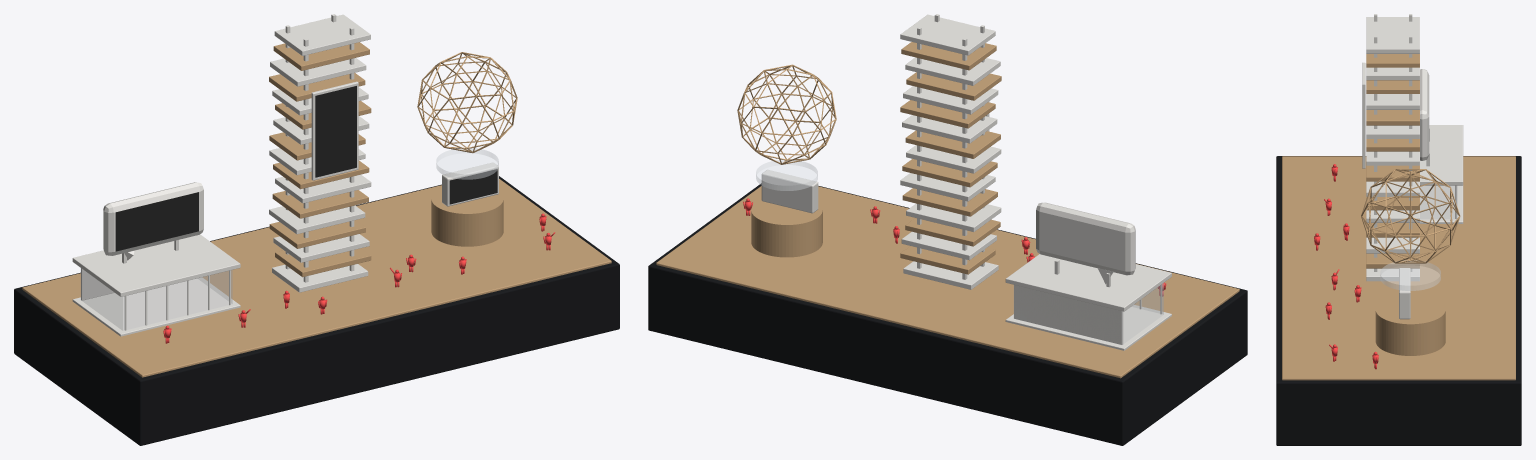
Rendered from maquette.glb.
3 views of the same model, side by side, from view 1: azimuth 30°, elevation 25°; view 2: azimuth 150°, elevation 25°; view 3: azimuth 270°, elevation 25° (orthographic). The views are drawn at different scales.
Visible parts, largest first — view 1: Plinth, Plinth_Top, Store_Roof, Store_Base, Store_Glass, Laser_Sphere, Screen_Bridj, Screen_MojKolega, Laser_Base, Tower_Slab_16, Canopy_Bubble, Laser_Lens (+20 smaller); view 2: Plinth, Plinth_Top, Canopy_Bubble, Store_Roof, Laser_Sphere, Store_Back, Laser_Base, Tower_Slab_16, Store_Base, Laser_ScreenBox, Laser_Lens, Store_Glass (+17 smaller); view 3: Plinth_Top, Plinth, Laser_Sphere, Laser_Base, Store_Roof, Tower_Slab_16, Laser_Lens, Store_Base, Canopy_Bubble, Tower_Slab_11, Tower_Slab_12, Store_Glass (+18 smaller).
Part boxes in pixels (x1,y1,x2,y2): Plinth: (14, 176, 619, 445); Plinth_Top: (22, 179, 611, 377); Store_Roof: (72, 234, 240, 296); Store_Base: (72, 277, 240, 336); Store_Glass: (81, 269, 232, 330); Laser_Sphere: (417, 52, 517, 153); Screen_Bridj: (315, 86, 356, 177); Screen_MojKolega: (115, 192, 198, 251); Laser_Base: (431, 188, 503, 246); Tower_Slab_16: (274, 14, 370, 55); Canopy_Bubble: (103, 182, 203, 255); Laser_Lens: (436, 148, 498, 179); Plinth: (648, 183, 1247, 445); Plinth_Top: (656, 186, 1239, 378); Canopy_Bubble: (1036, 202, 1135, 275); Store_Roof: (1005, 254, 1171, 311); Laser_Sphere: (737, 64, 836, 164); Store_Back: (1014, 285, 1123, 344); Laser_Base: (751, 199, 822, 257); Tower_Slab_16: (900, 14, 995, 55); Store_Base: (1005, 305, 1171, 350); Laser_ScreenBox: (761, 169, 818, 213); Laser_Lens: (756, 160, 817, 190); Store_Glass: (1014, 283, 1163, 344); Plinth_Top: (1282, 156, 1515, 380); Plinth: (1276, 156, 1521, 445); Laser_Sphere: (1361, 169, 1460, 263); Laser_Base: (1375, 294, 1445, 355); Store_Roof: (1420, 125, 1463, 185); Tower_Slab_16: (1366, 17, 1419, 53); Laser_Lens: (1380, 260, 1440, 290); Store_Base: (1420, 185, 1463, 223); Canopy_Bubble: (1420, 69, 1429, 160); Tower_Slab_11: (1366, 110, 1419, 125); Tower_Slab_12: (1366, 94, 1419, 109); Store_Glass: (1420, 186, 1455, 218).
Bounding box in the file's own units: 4.6 × 2.9 × 2.1.
